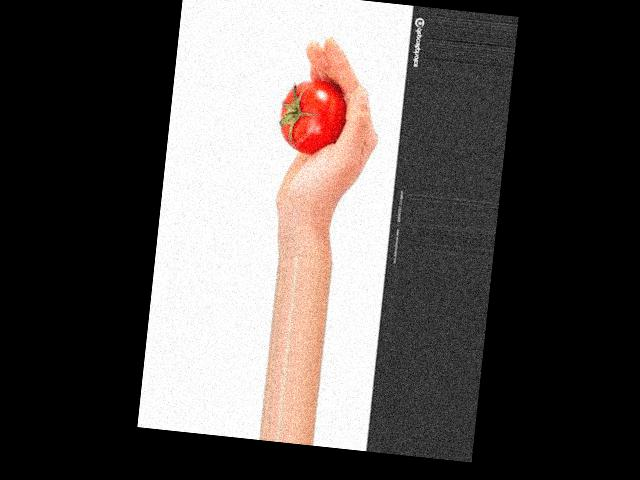tomato: (277, 79, 348, 158)
